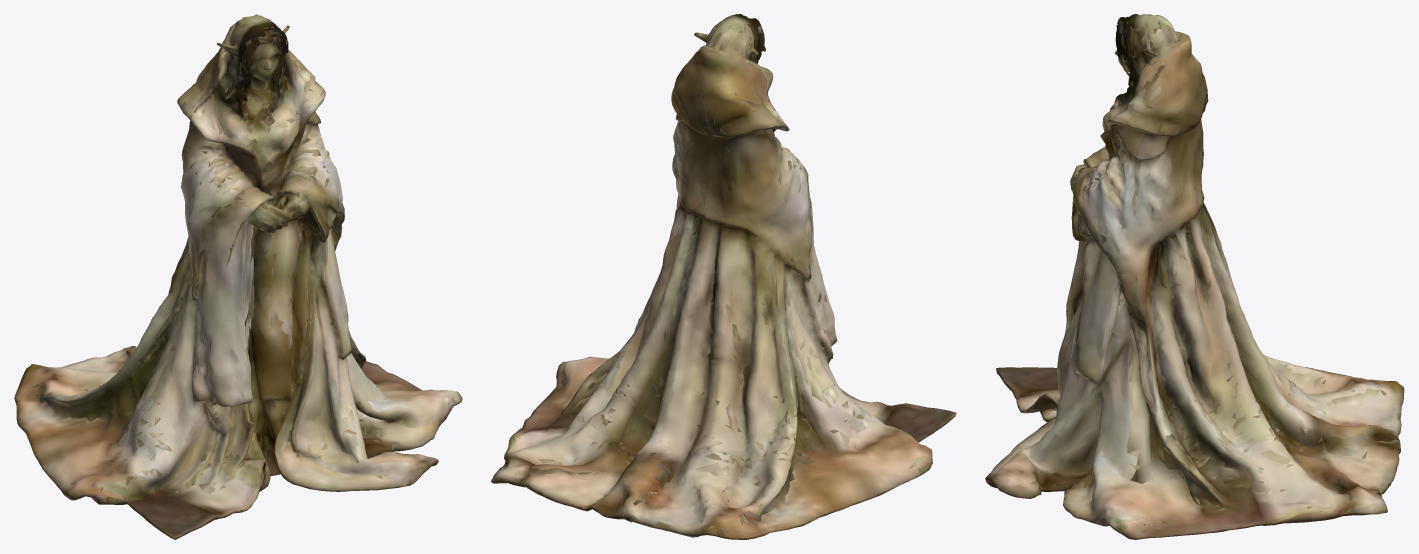
Rendered from lina_final.glb.
The picture shows the model from 3 angles, left to right: view 1: azimuth 30°, elevation 25°; view 2: azimuth 150°, elevation 25°; view 3: azimuth 270°, elevation 25°; orthographic projection. The views are drawn at different scales.
Visible parts, largest first — view 1: Mesh1.0; view 2: Mesh1.0; view 3: Mesh1.0.
Part boxes in pixels (x1,y1,x2,y2): Mesh1.0: (14,14,462,539); Mesh1.0: (491,14,956,539); Mesh1.0: (985,14,1404,539).
Size of the model in its own units: 1.63 by 1.7 by 1.5.
Materials: 1 (1 with a texture image).
